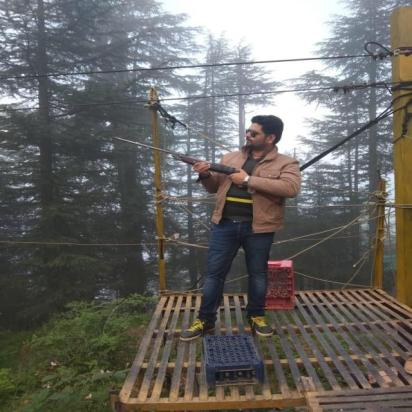Gun: (111, 135, 290, 206)
